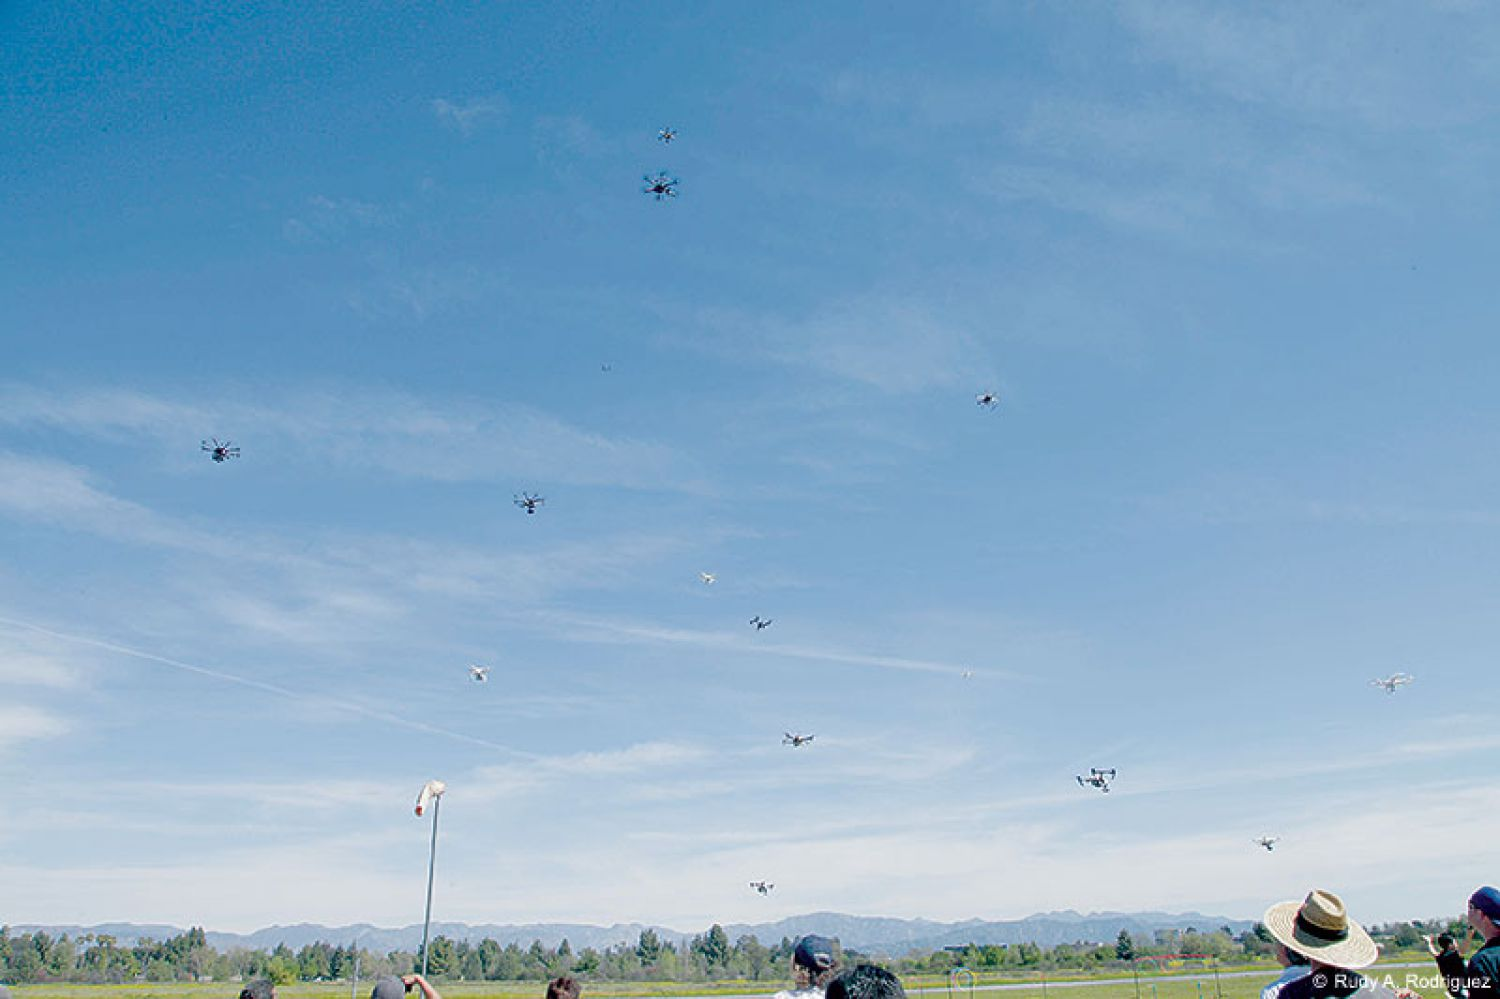drone: (198, 434, 242, 464), (1368, 669, 1412, 697), (641, 171, 678, 200), (1075, 766, 1114, 793), (512, 491, 546, 515), (778, 728, 814, 750), (973, 390, 1000, 413), (747, 876, 776, 895), (1251, 834, 1282, 852), (465, 663, 488, 685), (656, 127, 678, 148), (748, 615, 772, 631), (697, 570, 712, 584)
